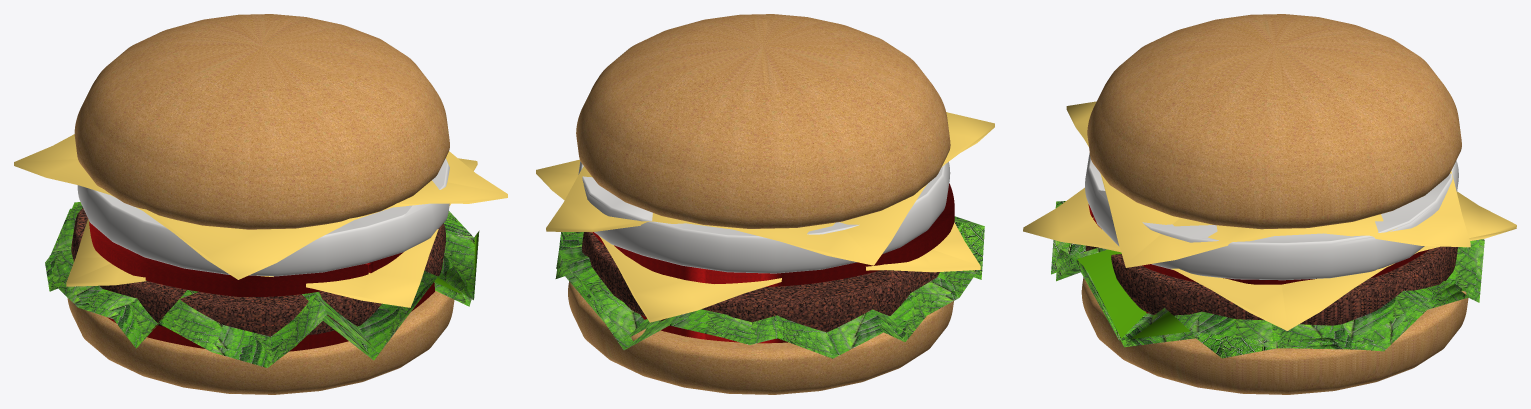
File: hamburger2.obj
3 renders of one model, left to right at view 1: azimuth 30°, elevation 25°; view 2: azimuth 150°, elevation 25°; view 3: azimuth 270°, elevation 25°, orthographic.
Parts seen in each view (by area): view 1: Mesh7 Hamburger1 Model, Mesh6 Hamburger1 Model, Mesh3 Hamburger1 Model, Mesh1 Hamburger1 Model, Mesh8 Hamburger1 Model, Mesh4 Hamburger1 Model, Mesh5 Hamburger1 Model, Mesh2 Hamburger1 Model; view 2: Mesh7 Hamburger1 Model, Mesh6 Hamburger1 Model, Mesh1 Hamburger1 Model, Mesh3 Hamburger1 Model, Mesh8 Hamburger1 Model, Mesh5 Hamburger1 Model, Mesh4 Hamburger1 Model, Mesh2 Hamburger1 Model; view 3: Mesh7 Hamburger1 Model, Mesh6 Hamburger1 Model, Mesh3 Hamburger1 Model, Mesh1 Hamburger1 Model, Mesh5 Hamburger1 Model, Mesh8 Hamburger1 Model, Mesh4 Hamburger1 Model.
Boxes of the visible parts, x1,y1,x2,y2 form: Mesh7 Hamburger1 Model: (74,14,449,229); Mesh6 Hamburger1 Model: (14,134,507,279); Mesh3 Hamburger1 Model: (45,202,479,367); Mesh1 Hamburger1 Model: (67,291,454,394); Mesh8 Hamburger1 Model: (71,207,445,336); Mesh4 Hamburger1 Model: (89,221,403,296); Mesh5 Hamburger1 Model: (66,158,477,307); Mesh2 Hamburger1 Model: (107,282,434,351); Mesh7 Hamburger1 Model: (576,14,950,228); Mesh6 Hamburger1 Model: (546,112,994,273); Mesh1 Hamburger1 Model: (568,281,953,394); Mesh3 Hamburger1 Model: (555,216,984,358); Mesh8 Hamburger1 Model: (582,232,939,338); Mesh5 Hamburger1 Model: (536,159,980,322); Mesh4 Hamburger1 Model: (592,183,954,286); Mesh2 Hamburger1 Model: (641,315,787,343); Mesh7 Hamburger1 Model: (1087,14,1461,229); Mesh6 Hamburger1 Model: (1066,101,1470,280); Mesh3 Hamburger1 Model: (1051,201,1484,358); Mesh1 Hamburger1 Model: (1081,277,1468,394); Mesh5 Hamburger1 Model: (1023,187,1516,330); Mesh8 Hamburger1 Model: (1085,245,1457,325); Mesh4 Hamburger1 Model: (1088,204,1429,284).
Size of the model in its own units: 4.14 by 2.73 by 4.14.
Materials: 7 (4 with a texture image).
